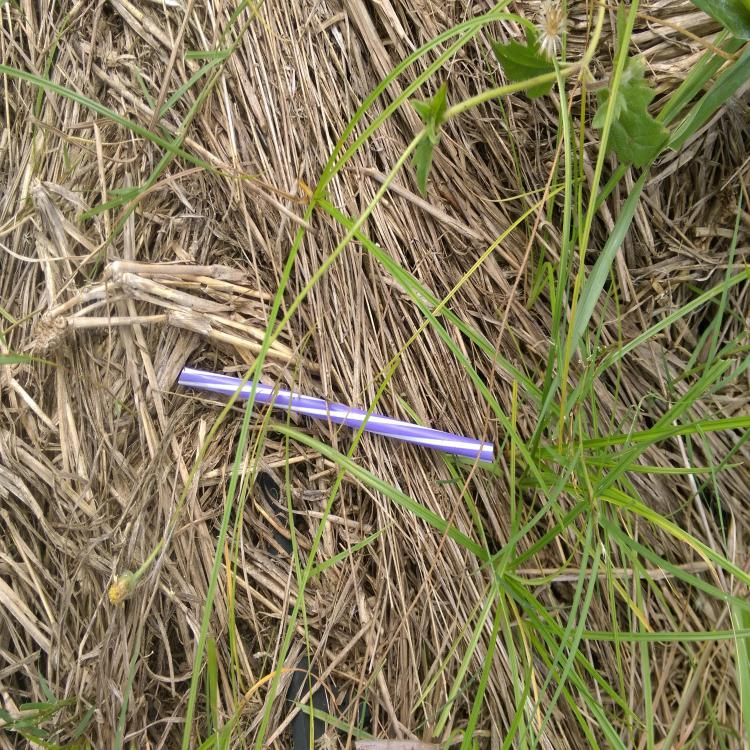Plastic straw: (178, 366, 493, 464)
